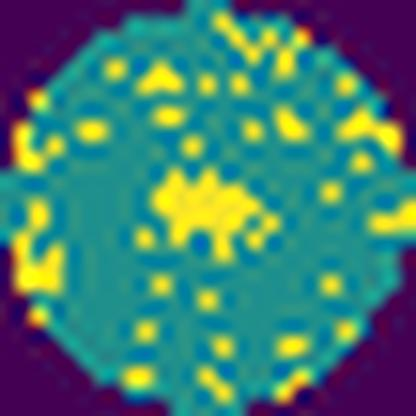Center: (150, 163, 273, 260)
